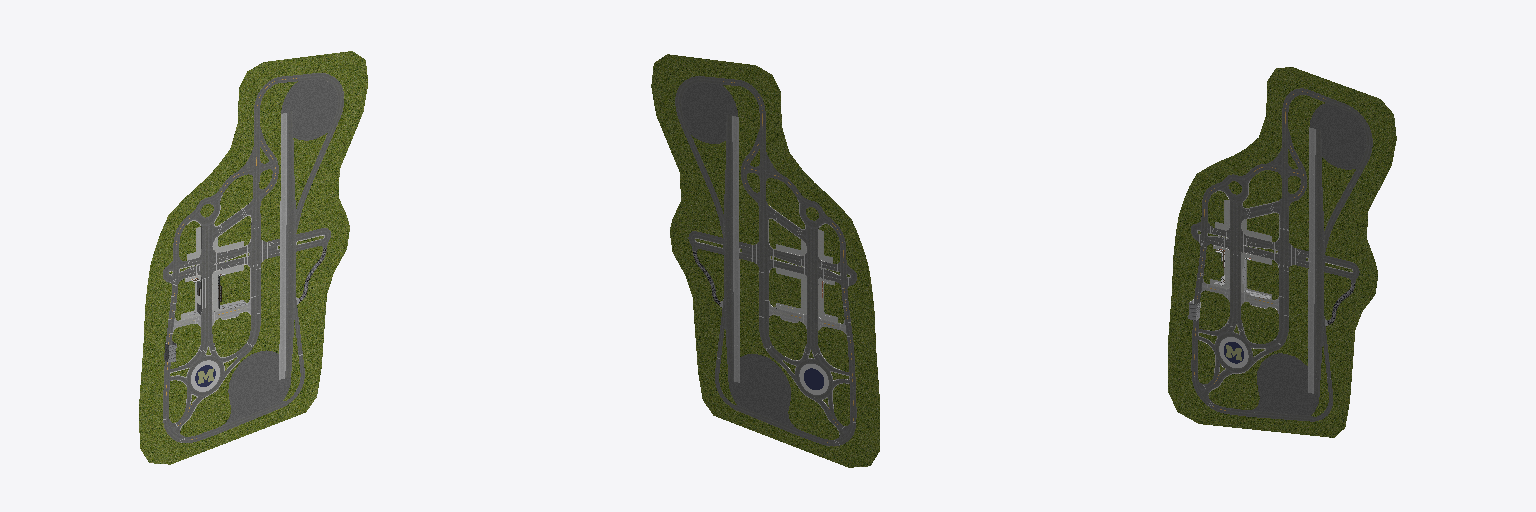
3 views of the same model, side by side, from view 1: azimuth 30°, elevation 25°; view 2: azimuth 150°, elevation 25°; view 3: azimuth 330°, elevation 25° (orthographic).
Parts seen in each view (by area): view 1: Mcity; view 2: Mcity; view 3: Mcity.
Part boxes in pixels (x1,y1,x2,y2): Mcity: (139, 51, 367, 464); Mcity: (651, 54, 879, 467); Mcity: (1168, 67, 1396, 437).
Bounding box in the file's own units: 2300 × 3642 × 76.2.
Materials: 16 (15 with a texture image).